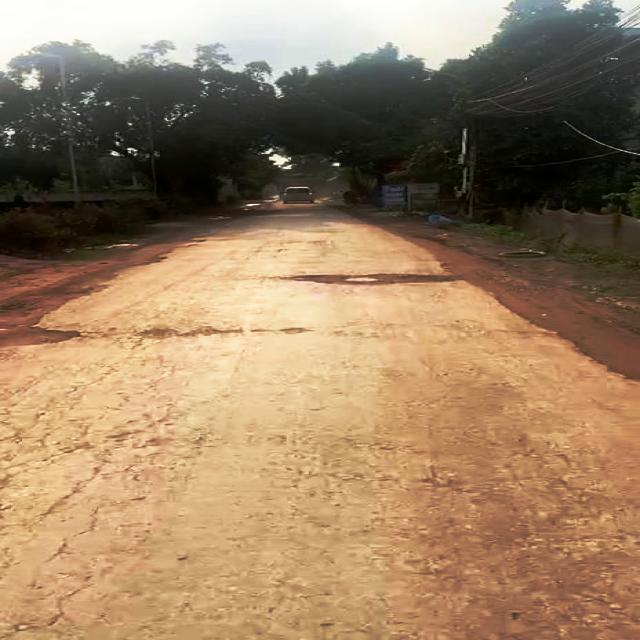pothole: (258, 270, 466, 288), (0, 320, 97, 355)
